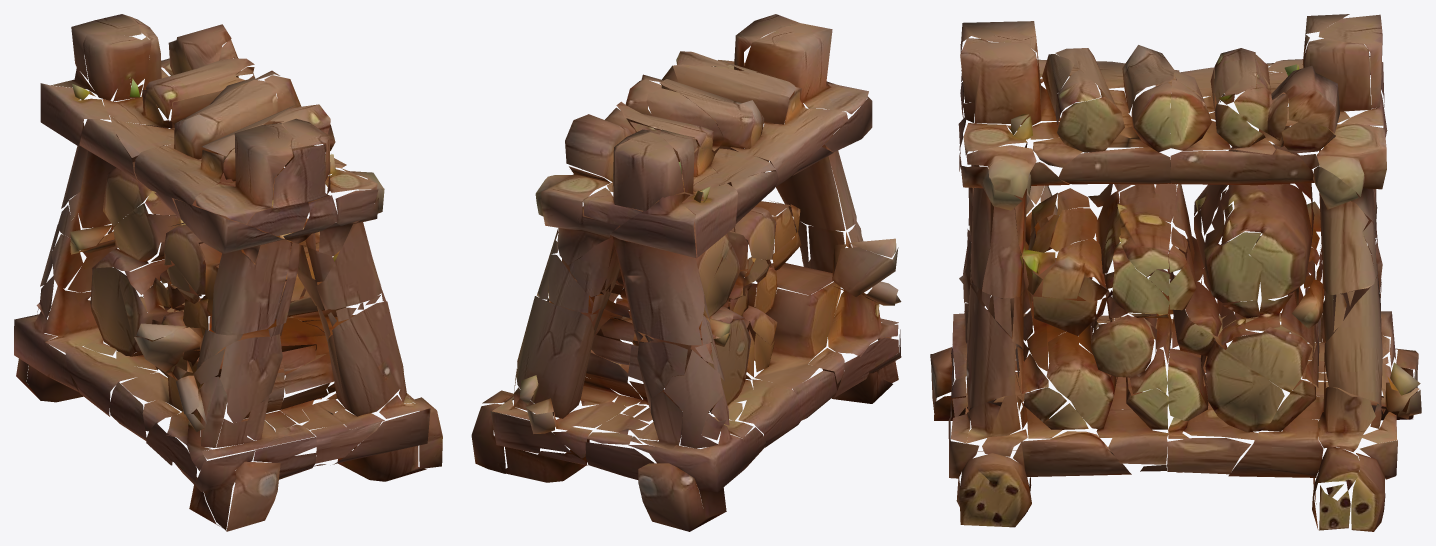
The model's file is suporte-toras.glb.
3 views of the same model, side by side, from view 1: azimuth 30°, elevation 25°; view 2: azimuth 150°, elevation 25°; view 3: azimuth 270°, elevation 25° (orthographic). The views are drawn at different scales.
Parts seen in each view (by area): view 1: tripo_node_b1e36fd2-fc3b-46be-9f42-c6b889696582; view 2: tripo_node_b1e36fd2-fc3b-46be-9f42-c6b889696582; view 3: tripo_node_b1e36fd2-fc3b-46be-9f42-c6b889696582.
Part boxes in pixels (x1,y1,x2,y2): tripo_node_b1e36fd2-fc3b-46be-9f42-c6b889696582: (14, 14, 442, 531); tripo_node_b1e36fd2-fc3b-46be-9f42-c6b889696582: (471, 14, 901, 531); tripo_node_b1e36fd2-fc3b-46be-9f42-c6b889696582: (930, 14, 1421, 531).
Size of the model in its own units: 0.7615 by 0.919 by 0.9982.
1 material, 1 textured.
